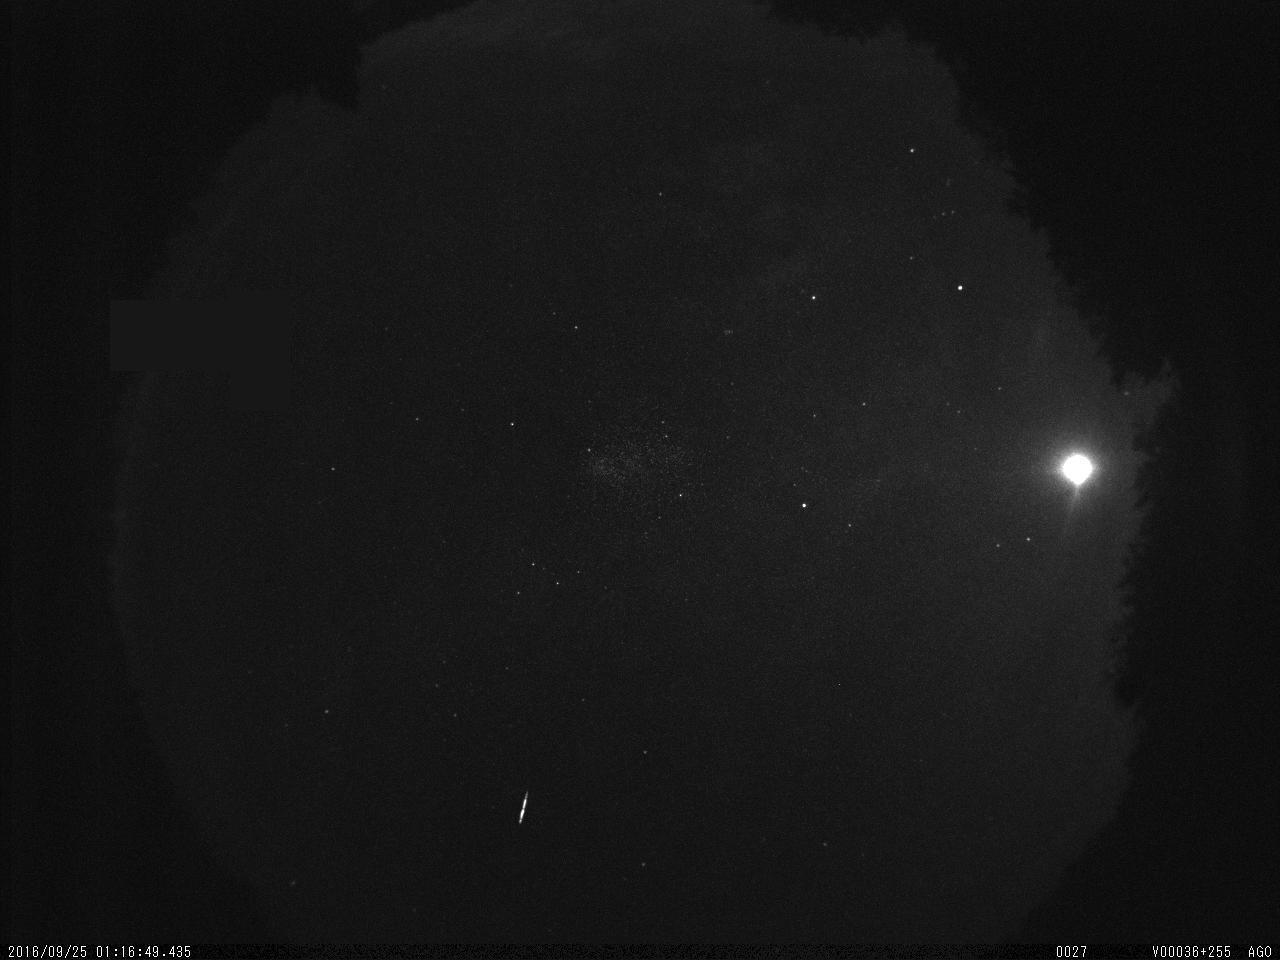meteor: (502, 777, 543, 839)
